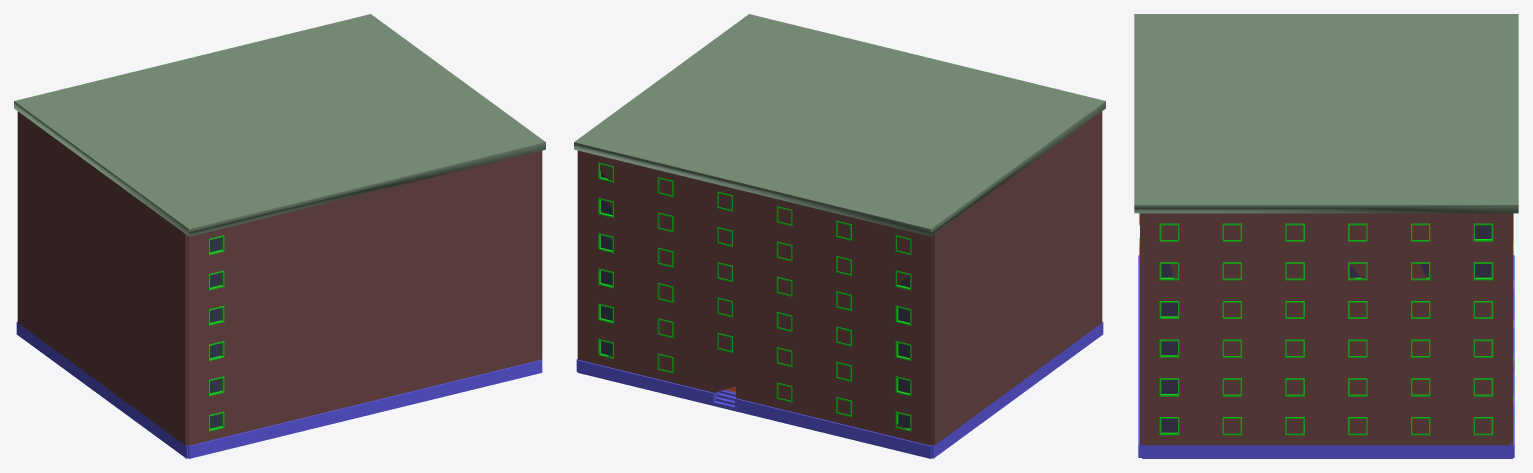
File: BCL30_F06_01.fbx
3 renders of one model, left to right at view 1: azimuth 30°, elevation 25°; view 2: azimuth 150°, elevation 25°; view 3: azimuth 270°, elevation 25°, orthographic. The views are drawn at different scales.
Parts seen in each view (by area): view 1: BCL30_F06_01; view 2: BCL30_F06_01; view 3: BCL30_F06_01.
Boxes of the visible parts, left/top/right/bottom form: BCL30_F06_01: left=14, top=14, right=545, bottom=458; BCL30_F06_01: left=574, top=14, right=1105, bottom=458; BCL30_F06_01: left=1134, top=14, right=1518, bottom=458.
Size of the model in its own units: 3005 by 1860 by 2550.
